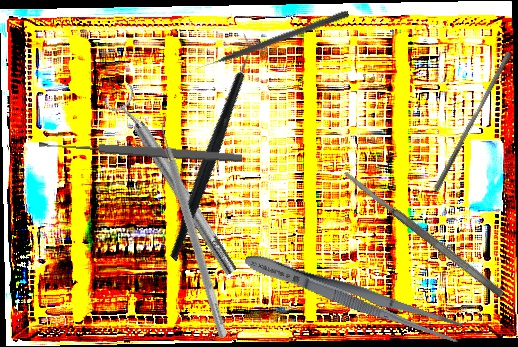Chopper: (101, 31, 317, 262)
Dressing Forceps: (241, 246, 465, 347)
Fixation Ring: (101, 81, 246, 283)
Pusher: (432, 48, 513, 196), (193, 8, 350, 73)
Spatula Surgical: (341, 167, 506, 300), (151, 111, 238, 339)
Surgical Spoon: (38, 137, 243, 165)
